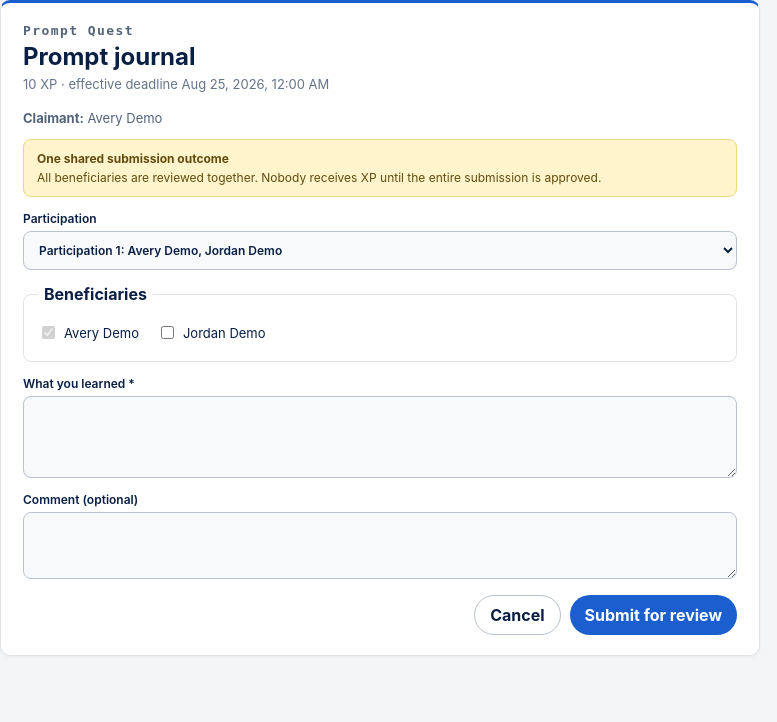
it: participant workflow › validates required evidence and explains multi-beneficiary all-or-nothing approval
The width and height of the screenshot is (777, 722).
Check: the text "Nobody receives XP until the entire submission is approved" is shown, box [37,170,601,185]
Click the button "Submit for review": (653, 615) [570,595,737,635]
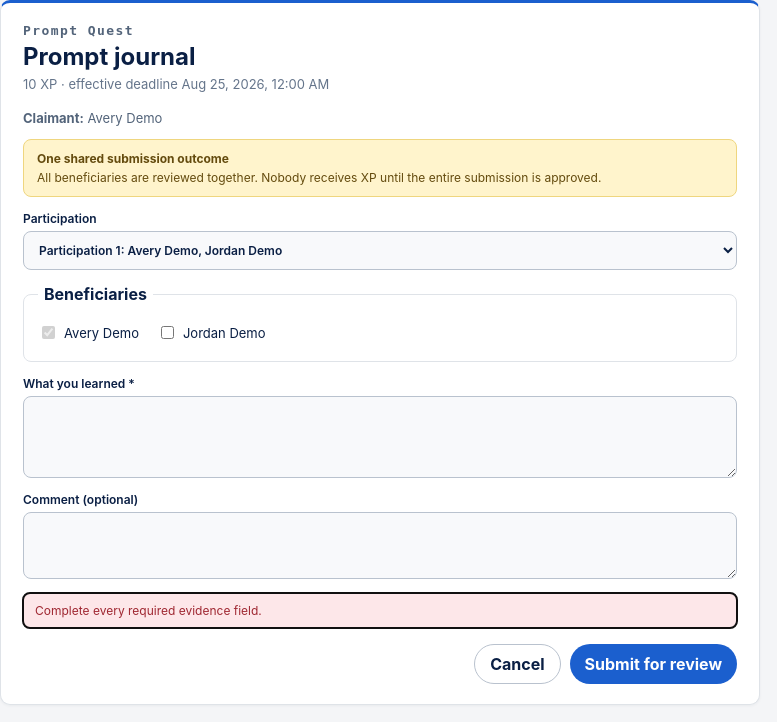
Check: the message shows "Complete every required evidence field", box [35,603,262,618]
